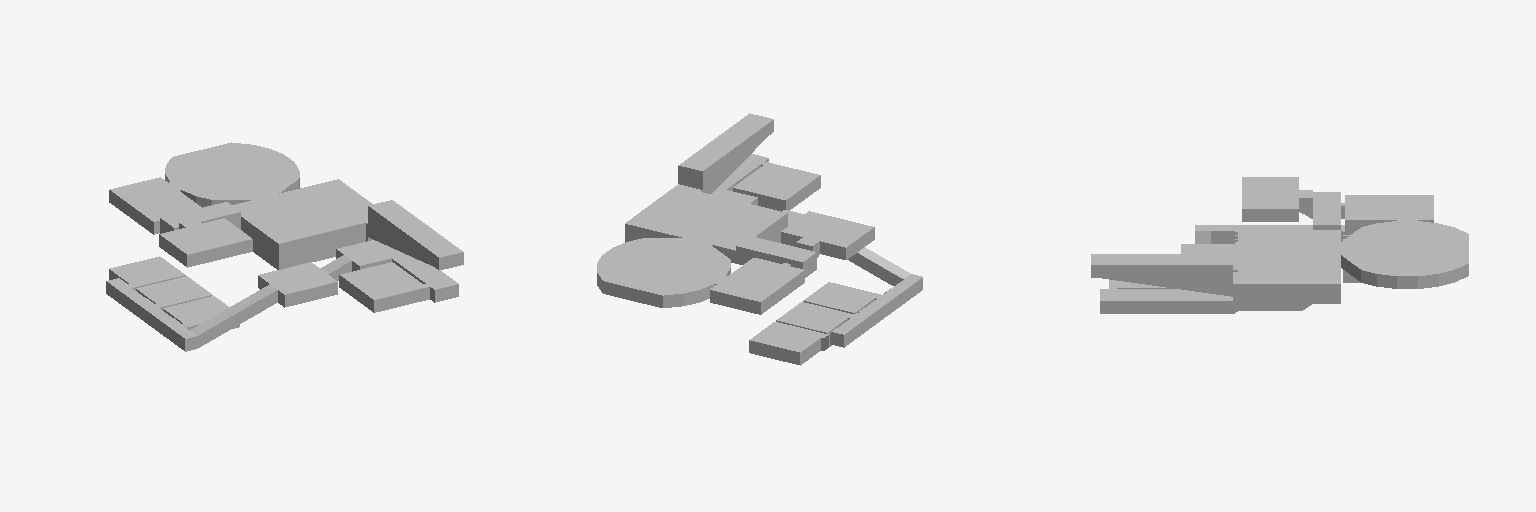
Rendered from SalleMulti.obj.
3 views of the same model, side by side, from view 1: azimuth 30°, elevation 25°; view 2: azimuth 150°, elevation 25°; view 3: azimuth 270°, elevation 25° (orthographic).
Size of the model in its own units: 50.7 by 19.61 by 73.6.